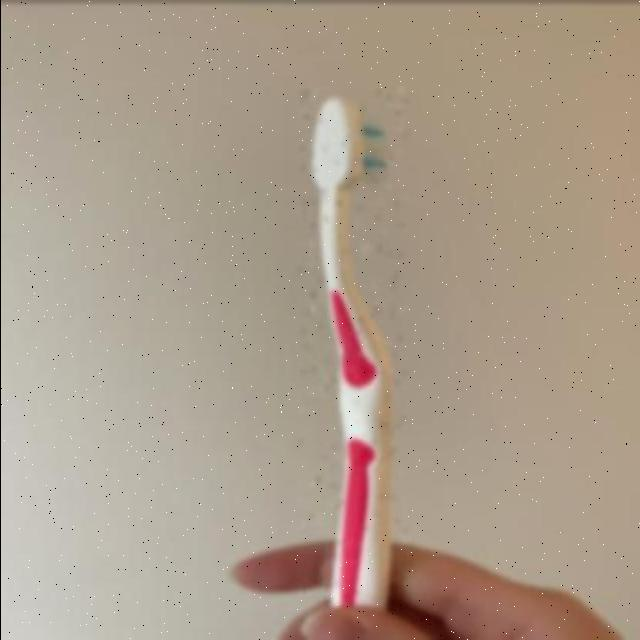toothbrush: (298, 87, 407, 603)
